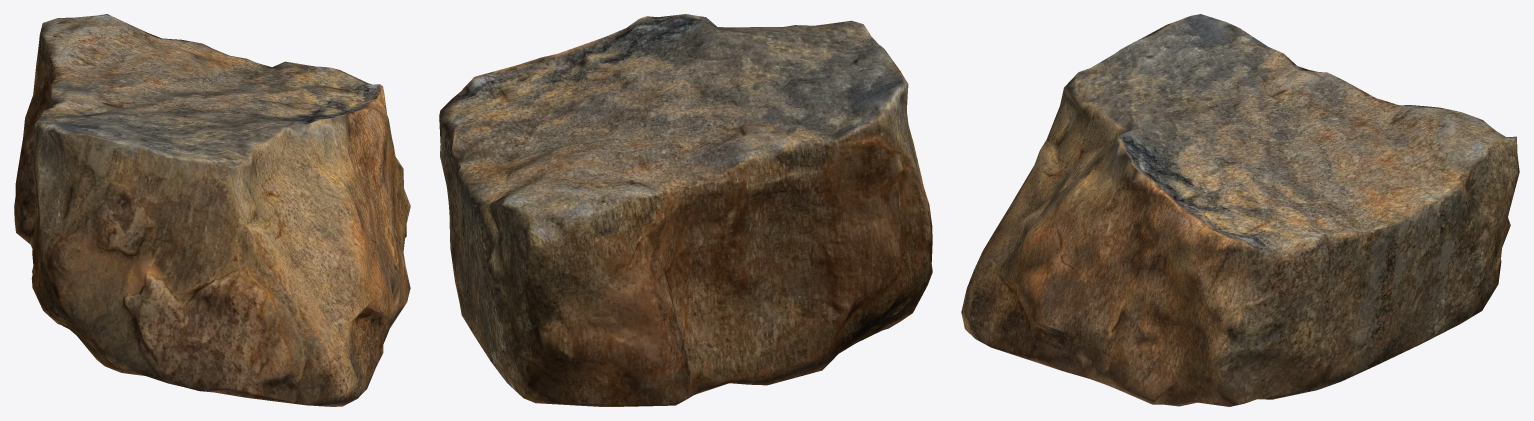
Rendered from namaqualand_boulder_03.glb.
The picture shows the model from 3 angles, left to right: view 1: azimuth 30°, elevation 25°; view 2: azimuth 150°, elevation 25°; view 3: azimuth 270°, elevation 25°; orthographic projection. The views are drawn at different scales.
Parts seen in each view (by area): view 1: boulder_03_LOD0; view 2: boulder_03_LOD0; view 3: boulder_03_LOD0.
Boxes of the visible parts, <box> form: boulder_03_LOD0: <box>14,14,410,406</box>; boulder_03_LOD0: <box>439,14,932,406</box>; boulder_03_LOD0: <box>961,14,1519,406</box>.
Bounding box in the file's own units: 2.39 × 1.47 × 3.06.
Materials: 1 (1 with a texture image).
